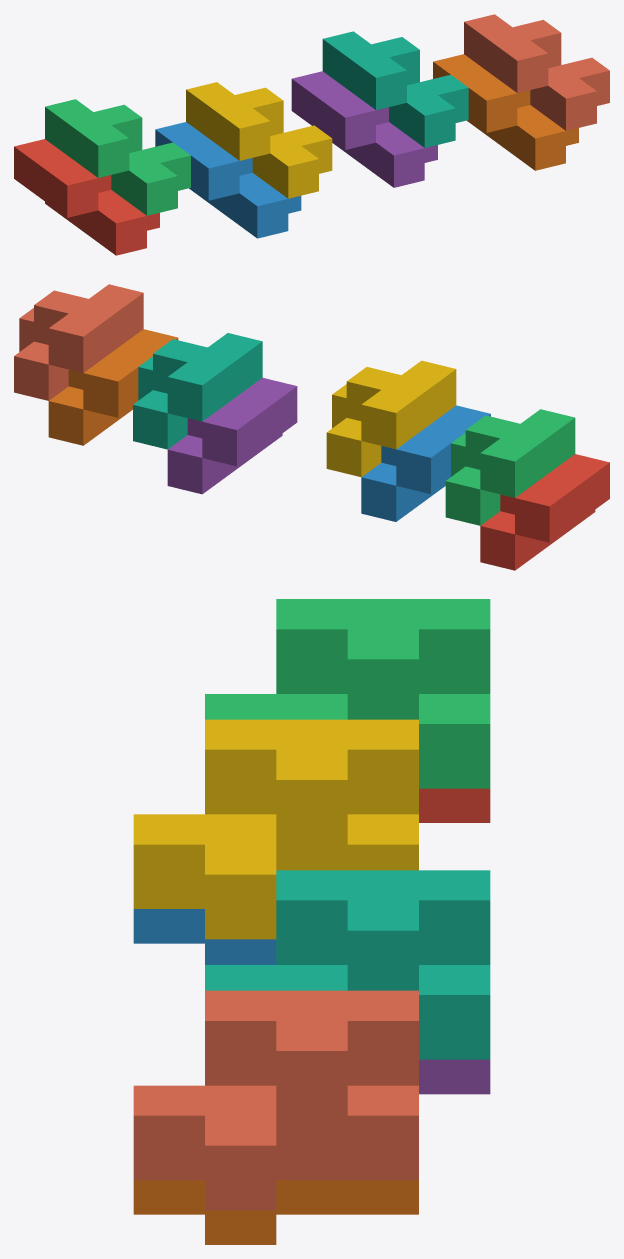
File: tiling.obj
3 views of the same model, one above another, from view 1: azimuth 30°, elevation 25°; view 2: azimuth 150°, elevation 25°; view 3: azimuth 270°, elevation 25° (orthographic). The views are drawn at different scales.
Visible parts, largest first — view 1: copy_1_domain_4, copy_1_domain_7, copy_1_domain_8, copy_1_domain_3, copy_1_domain_1, copy_1_domain_5, copy_1_domain_2, copy_1_domain_6; view 2: copy_1_domain_4, copy_1_domain_3, copy_1_domain_8, copy_1_domain_7, copy_1_domain_5, copy_1_domain_1, copy_1_domain_6, copy_1_domain_2; view 3: copy_1_domain_8, copy_1_domain_4, copy_1_domain_3, copy_1_domain_7, copy_1_domain_6, copy_1_domain_2, copy_1_domain_5, copy_1_domain_1.
Boxes of the visible parts, bbox=[...] form: copy_1_domain_4: bbox=[186, 82, 332, 198]; copy_1_domain_7: bbox=[322, 31, 468, 147]; copy_1_domain_8: bbox=[464, 14, 609, 130]; copy_1_domain_3: bbox=[45, 99, 190, 215]; copy_1_domain_1: bbox=[14, 139, 159, 255]; copy_1_domain_5: bbox=[291, 71, 437, 187]; copy_1_domain_2: bbox=[155, 122, 301, 238]; copy_1_domain_6: bbox=[433, 54, 578, 170]; copy_1_domain_4: bbox=[326, 360, 456, 477]; copy_1_domain_3: bbox=[445, 409, 575, 525]; copy_1_domain_8: bbox=[14, 284, 143, 400]; copy_1_domain_7: bbox=[133, 333, 262, 449]; copy_1_domain_5: bbox=[167, 377, 297, 494]; copy_1_domain_1: bbox=[480, 454, 609, 570]; copy_1_domain_6: bbox=[48, 329, 178, 445]; copy_1_domain_2: bbox=[361, 405, 490, 521]; copy_1_domain_8: bbox=[133, 990, 418, 1210]; copy_1_domain_4: bbox=[133, 719, 418, 939]; copy_1_domain_3: bbox=[205, 599, 490, 788]; copy_1_domain_7: bbox=[205, 870, 490, 1059]; copy_1_domain_6: bbox=[133, 1180, 418, 1244]; copy_1_domain_2: bbox=[133, 909, 276, 964]; copy_1_domain_5: bbox=[419, 1059, 490, 1094]; copy_1_domain_1: bbox=[419, 788, 490, 822].
Size of the model in its own units: 17 by 3 by 5.
